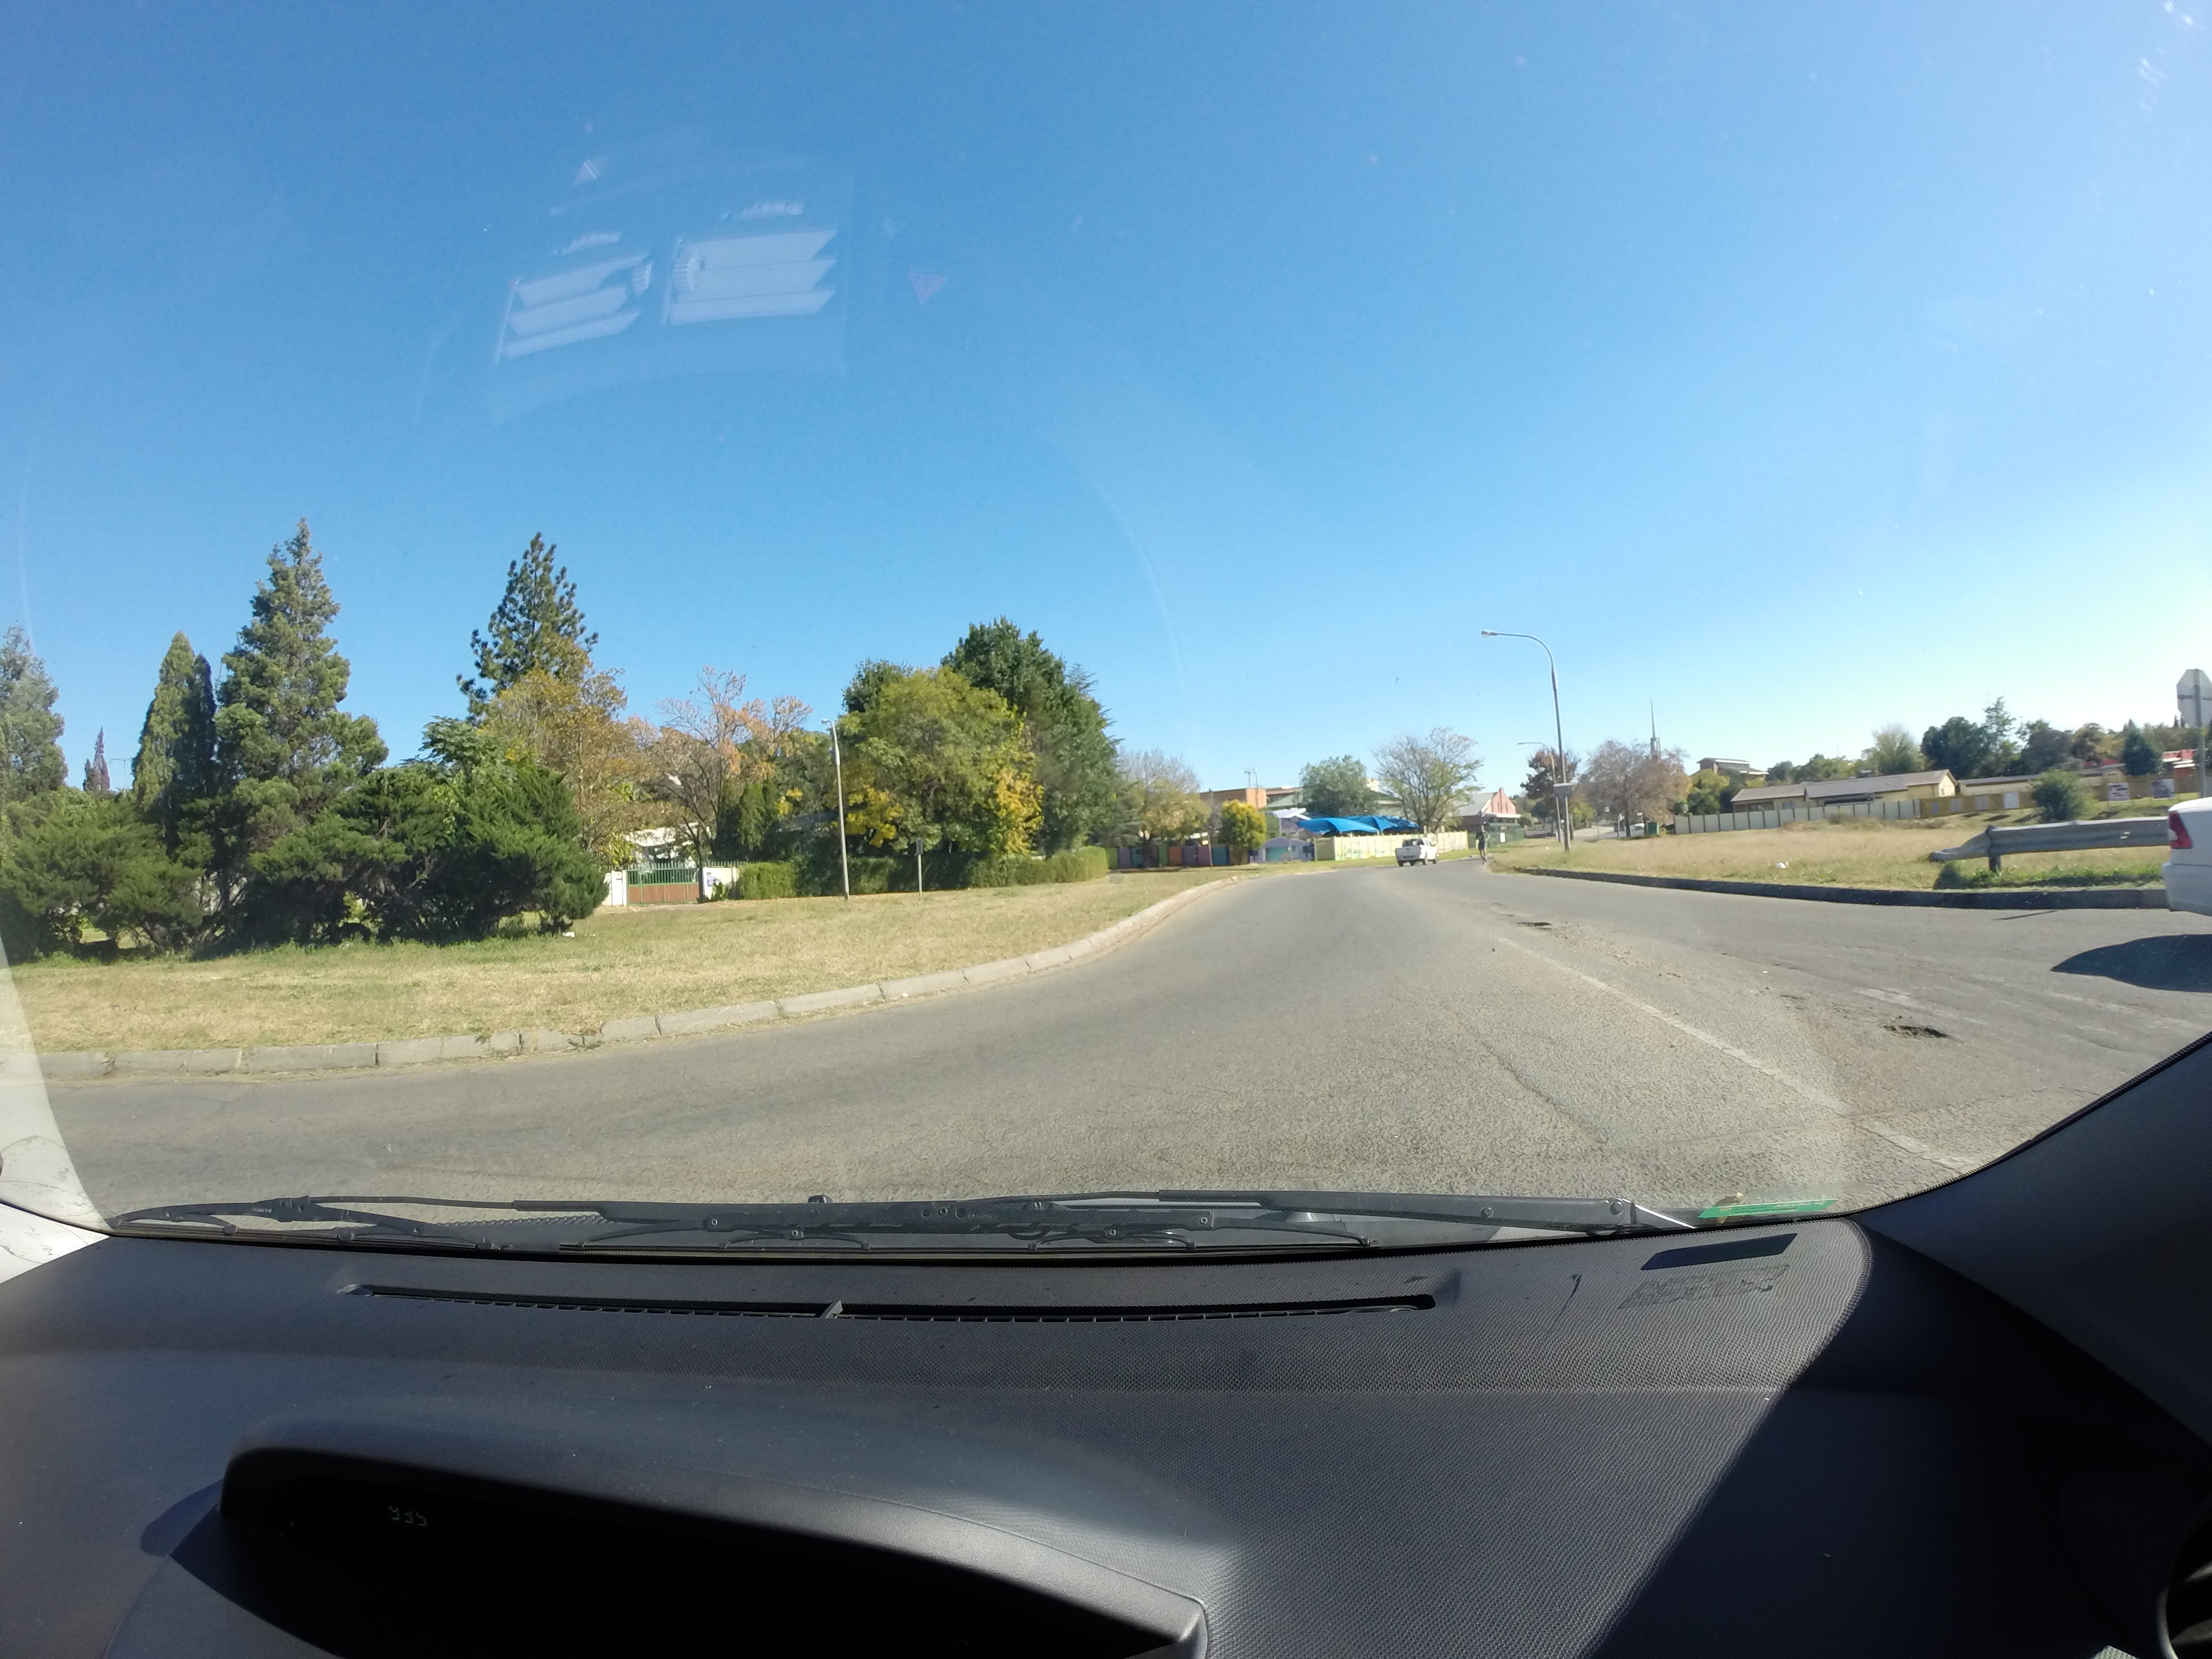pothole: (1860, 997, 1961, 1060)
